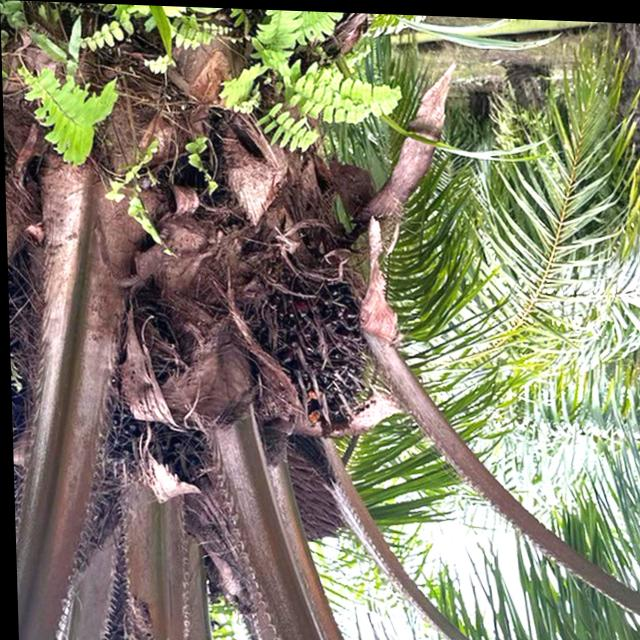ripe: (247, 251, 382, 441)
